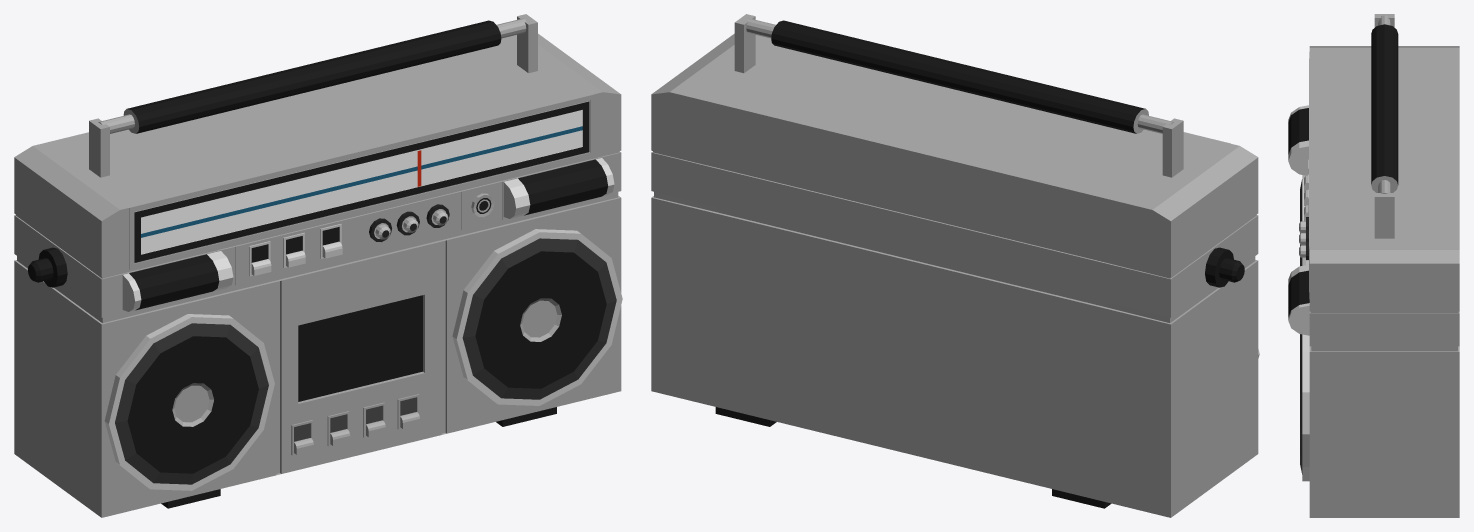
File: Boombox.glb
3 views of the same model, side by side, from view 1: azimuth 30°, elevation 25°; view 2: azimuth 150°, elevation 25°; view 3: azimuth 270°, elevation 25° (orthographic). The views are drawn at different scales.
Parts seen in each view (by area): view 1: boombox; view 2: boombox; view 3: boombox.
Boxes of the visible parts, x1,y1,x2,y2 form: boombox: [14, 14, 622, 517]; boombox: [651, 14, 1259, 517]; boombox: [1288, 14, 1459, 517].
Size of the model in its own units: 0.9602 by 0.6134 by 0.3048.
Materials: 1 (1 with a texture image).
